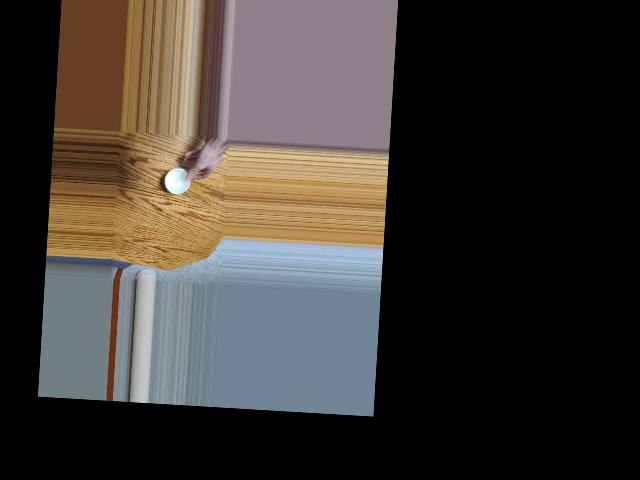cotage: (163, 167, 191, 197)
